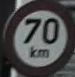Speed limit: (6, 6, 67, 69)
